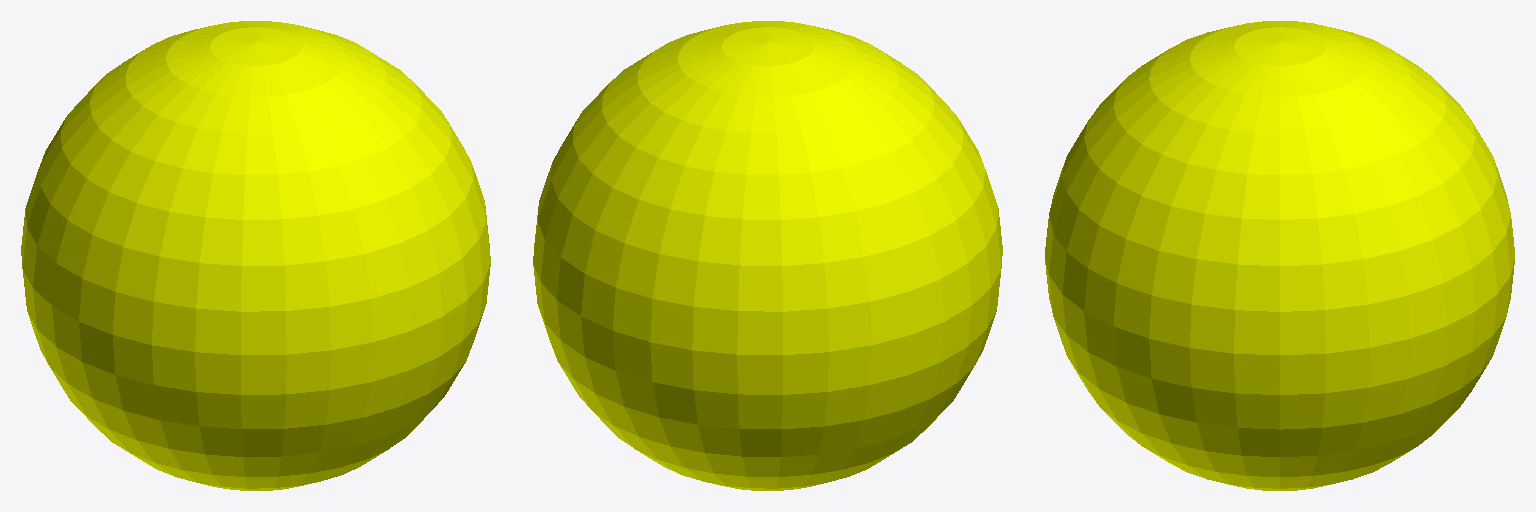
3 views of the same model, side by side, from view 1: azimuth 30°, elevation 25°; view 2: azimuth 150°, elevation 25°; view 3: azimuth 270°, elevation 25° (orthographic).
Visible parts, largest first — view 1: bullet; view 2: bullet; view 3: bullet.
Part boxes in pixels (left/top/right/bottom): bullet: left=21, top=21, right=490, bottom=490; bullet: left=533, top=21, right=1002, bottom=490; bullet: left=1045, top=21, right=1514, bottom=490.
Bounding box in the file's own units: 0.4 × 0.4 × 0.4.
1 materials, 1 textured.